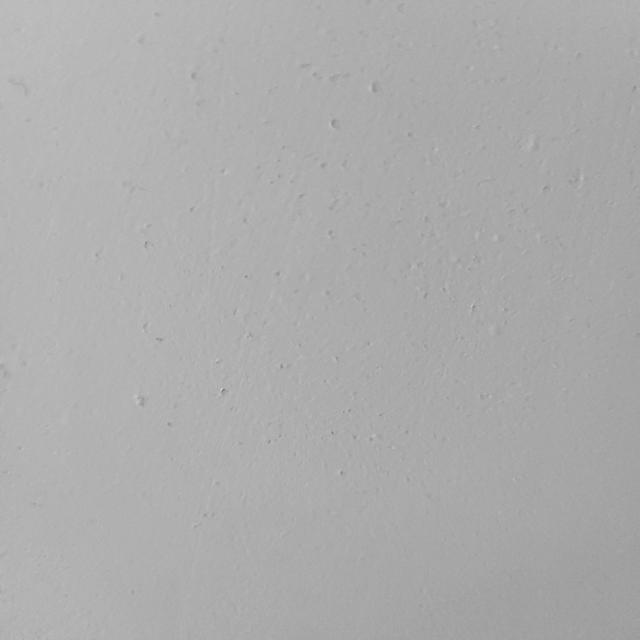rough and patchy surface: (79, 32, 496, 537), (495, 33, 627, 345)
